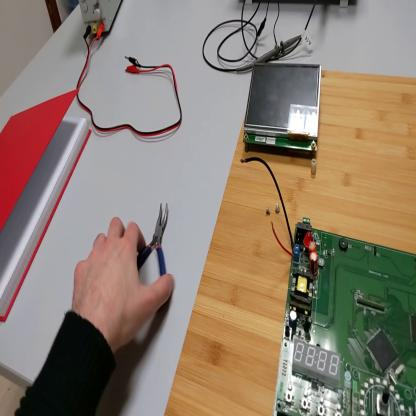hand: (71, 215, 173, 352)
low voltage board: (241, 155, 416, 416)
oscilloscope probe tip: (236, 37, 302, 76)
pliers: (138, 206, 170, 279)
power supply: (80, 3, 123, 34)
register: (1, 91, 89, 324)
working area: (165, 65, 416, 414)
